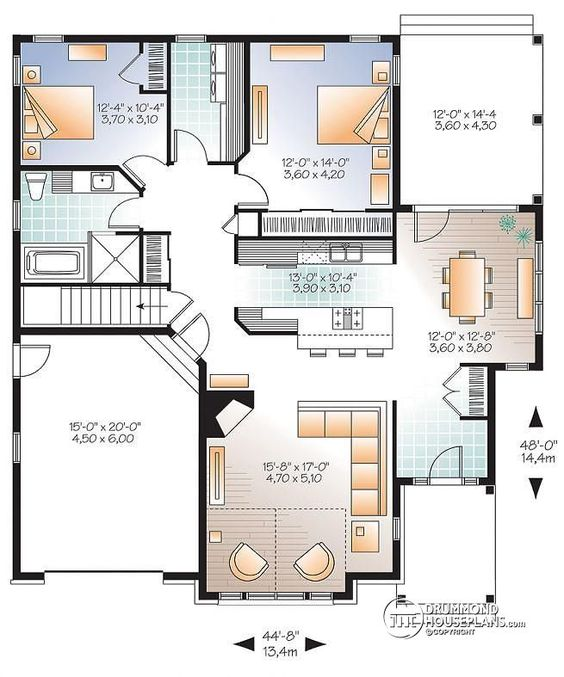door: (120, 139, 154, 176), (26, 341, 60, 378), (242, 170, 276, 207), (174, 124, 208, 161), (411, 213, 445, 250), (429, 440, 463, 477), (184, 311, 218, 348), (216, 210, 233, 238)
room: (195, 364, 405, 606), (241, 33, 406, 215), (390, 196, 549, 378), (9, 28, 172, 171), (7, 164, 147, 289)
window: (533, 239, 546, 339), (243, 588, 306, 603), (31, 32, 65, 49), (172, 31, 207, 47), (10, 430, 23, 466), (10, 198, 23, 234), (307, 589, 335, 604), (504, 360, 531, 375), (216, 589, 243, 601), (391, 515, 401, 543)
